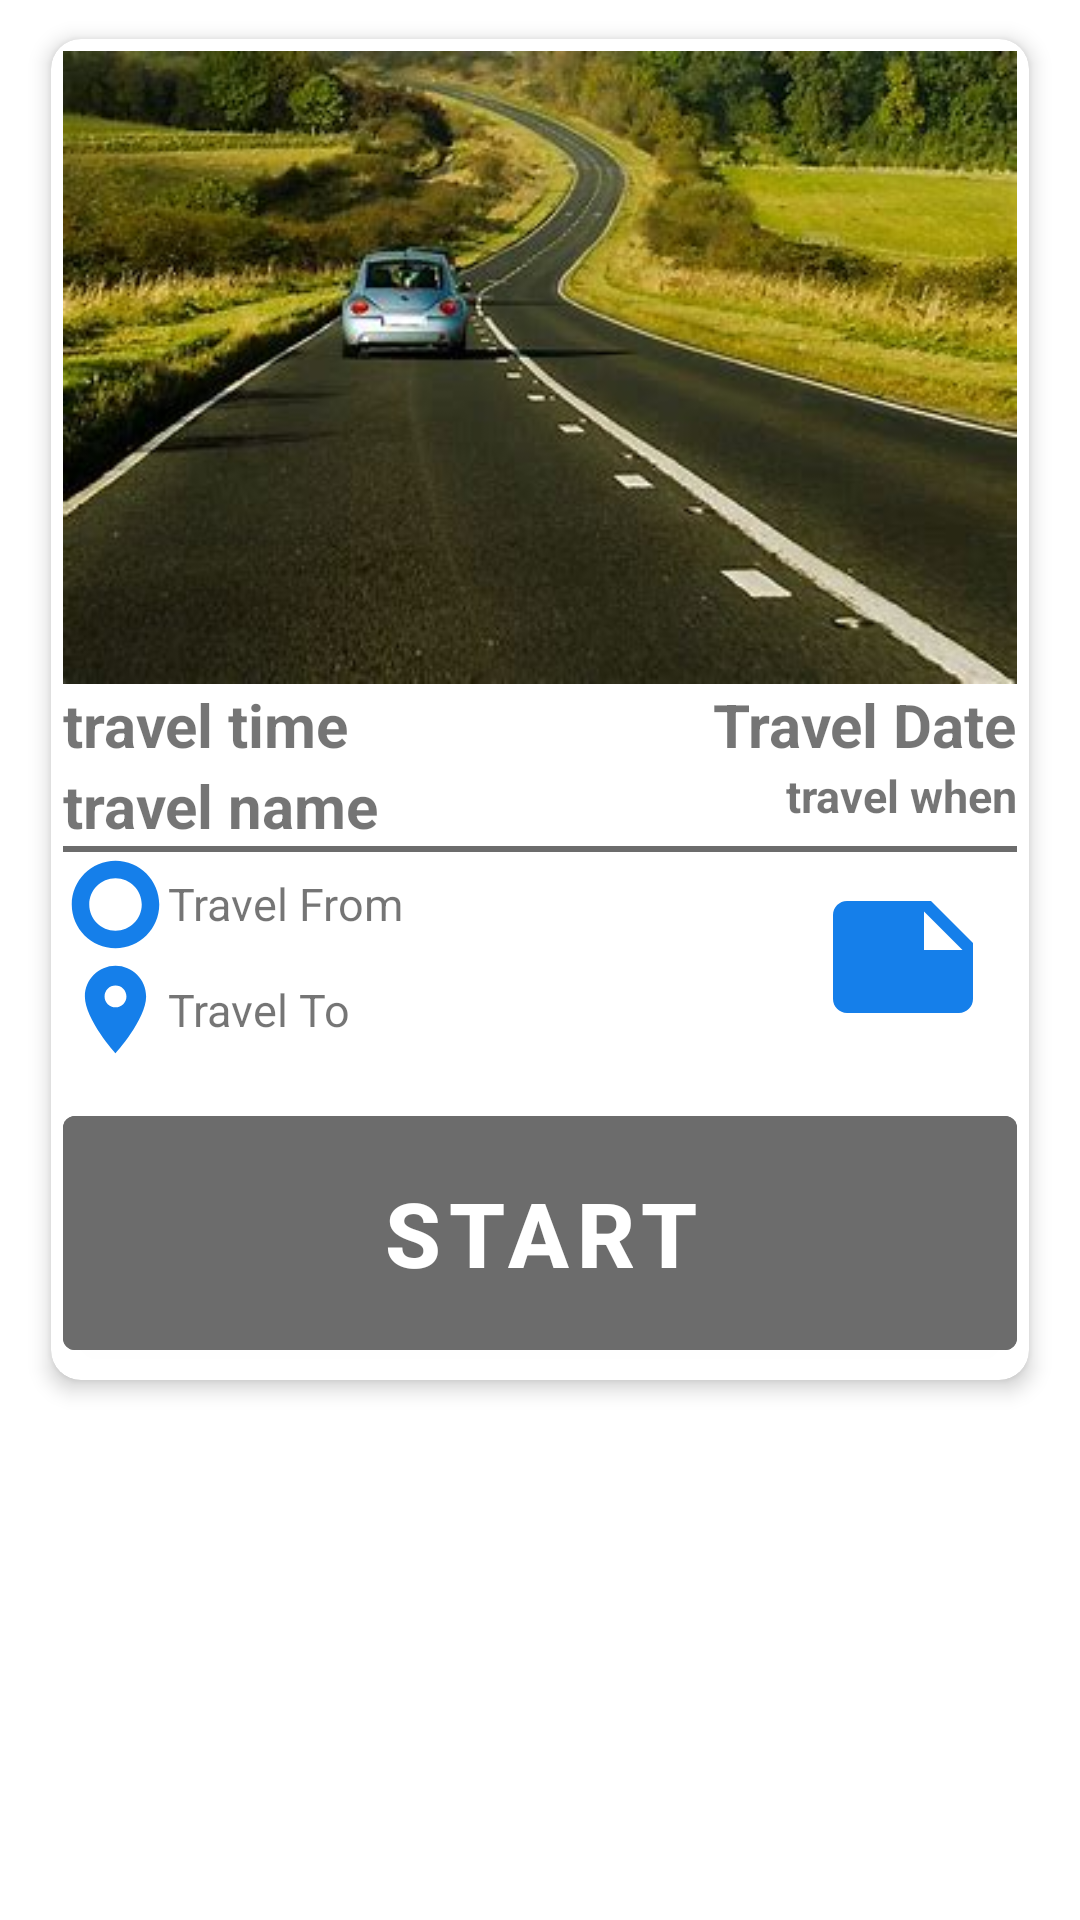

Icons on this 1080x1920 Android screen, each with the point to tap as [x,y]:
location on: [115,1009]
trip origin: [115,904]
